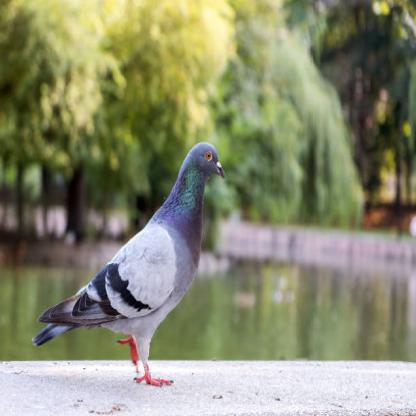Rock Pigeon: (34, 143, 228, 361)
